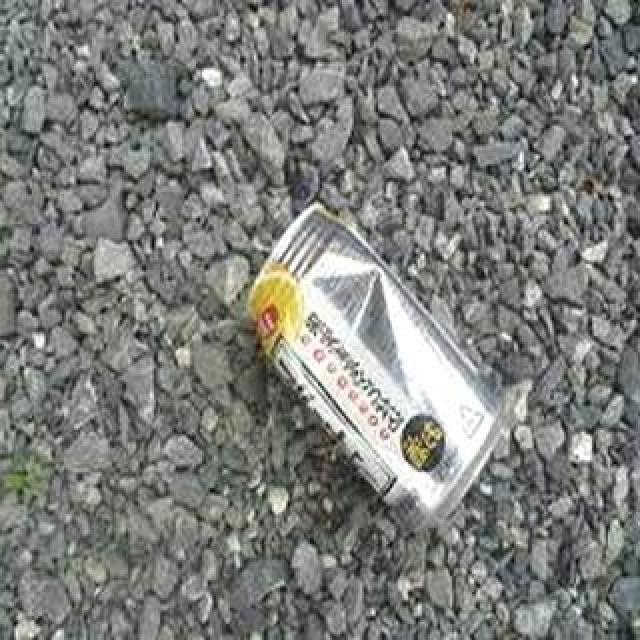Can: (240, 204, 498, 526)
